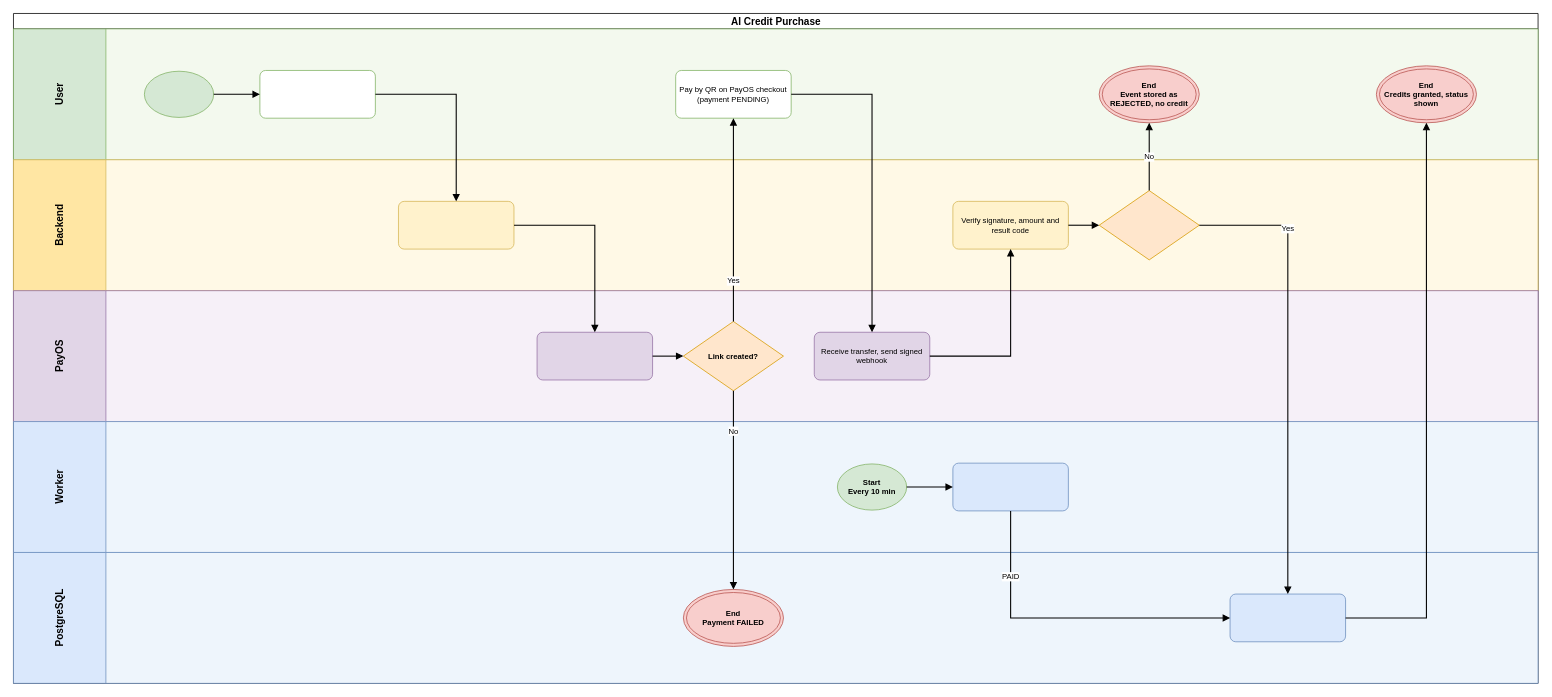
This 1552x697 diagram has some shape labels left out. Here are the shapes that lost their labels. From the top down, the centre of each, then its label:
the point at 179,93: Start
the point at 317,94: Choose an active AI credit package
the point at 456,225: Create payment with order code and price snapshot (idempotency key)
the point at 1148,225: Valid?
the point at 594,355: Create payment link valid for 15 minutes
the point at 1010,486: Query PayOS status of PENDING payments without webhook
the point at 1287,617: Record event once, set PAID, add PURCHASE credits (duplicates ignored)
